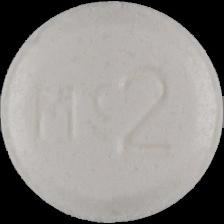55695-019: (0, 0, 224, 224)
